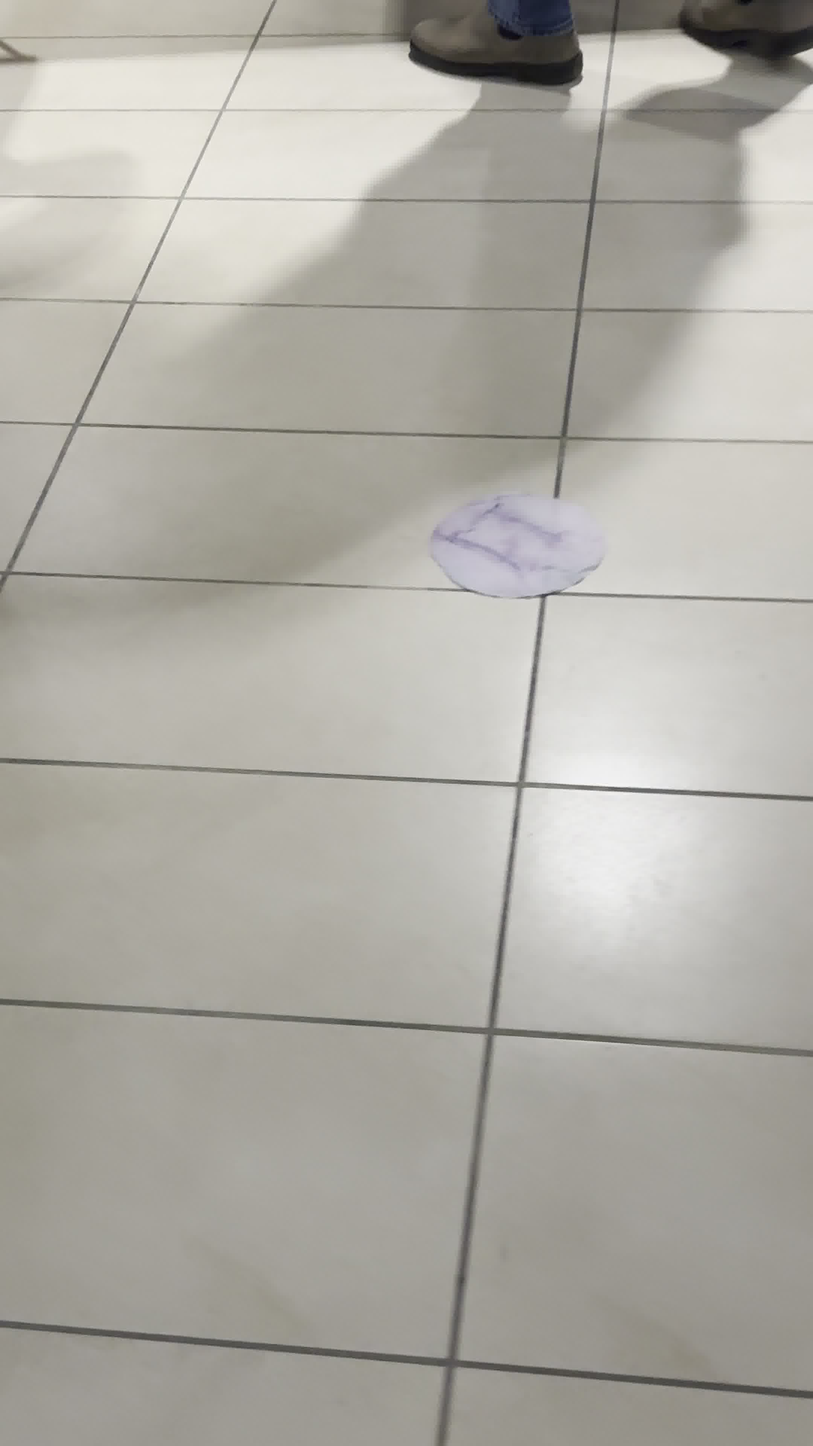Target: (427, 492, 604, 599)
